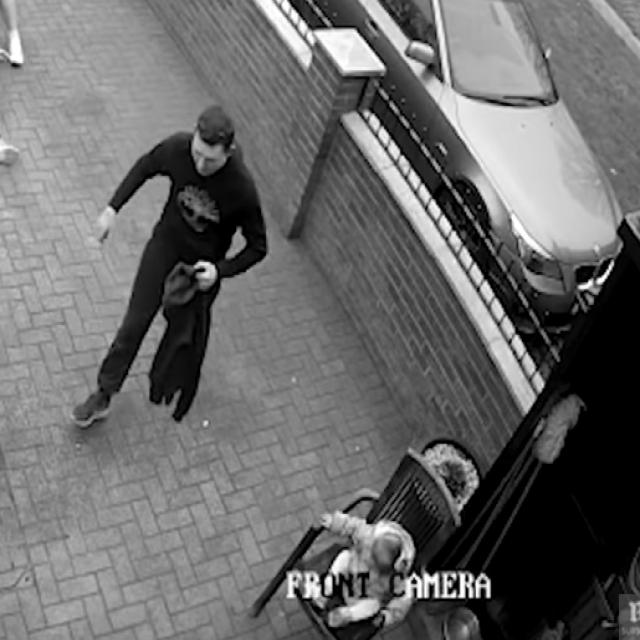Invader: (69, 103, 268, 428), (312, 502, 412, 640), (0, 0, 20, 168)
